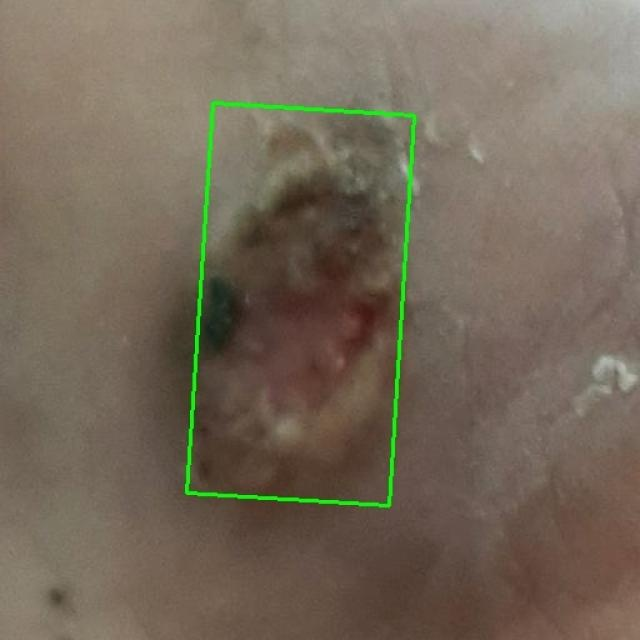Eczema: (187, 103, 415, 506)
